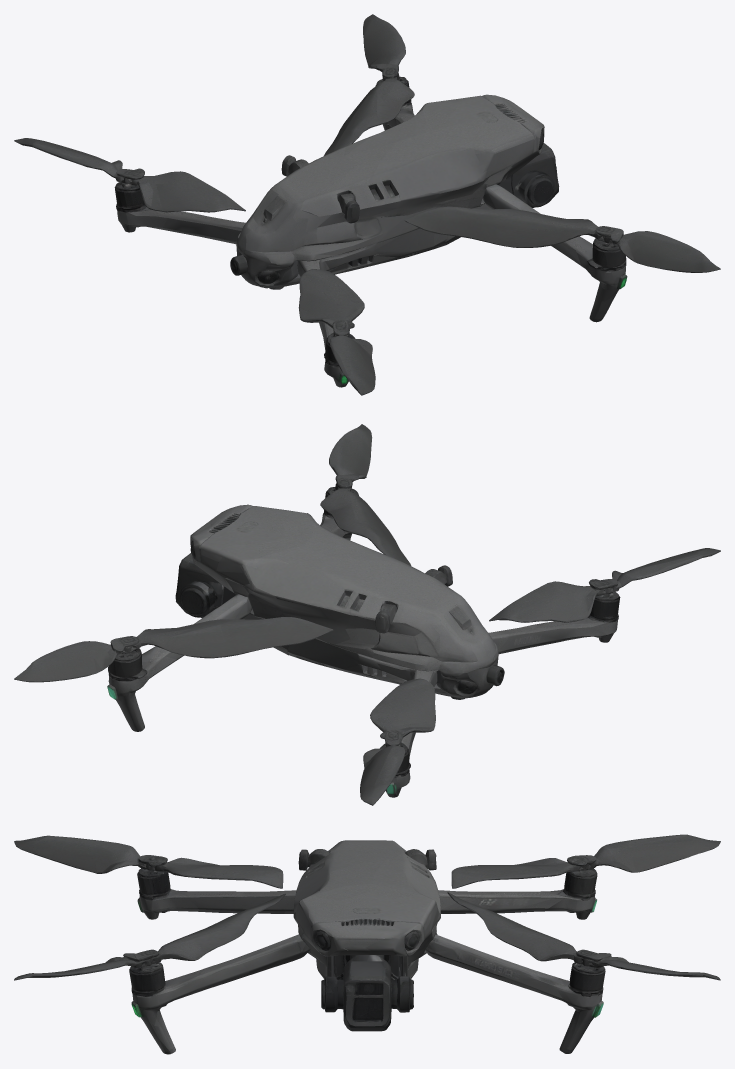
Rendered from mavic.glb.
3 views of the same model, one above another, from view 1: azimuth 30°, elevation 25°; view 2: azimuth 150°, elevation 25°; view 3: azimuth 270°, elevation 25° (orthographic).
Visible parts, largest first — view 1: mesh_node; view 2: mesh_node; view 3: mesh_node.
Boxes of the visible parts, left/top/right/bottom form: mesh_node: left=14, top=14, right=720, bottom=395; mesh_node: left=14, top=424, right=720, bottom=805; mesh_node: left=14, top=834, right=720, bottom=1054.
Bounding box in the file's own units: 1.15 × 0.4053 × 1.9.
Materials: 1 (1 with a texture image).
